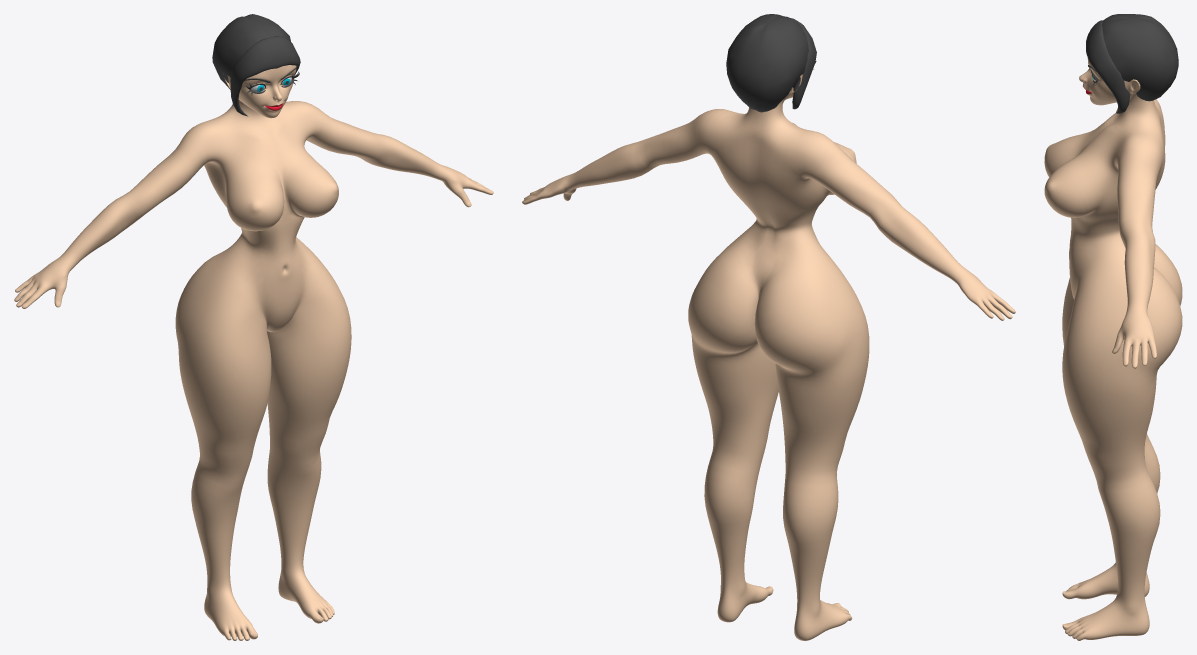
The model's file is HARLIE.glb.
3 views of the same model, side by side, from view 1: azimuth 30°, elevation 25°; view 2: azimuth 150°, elevation 25°; view 3: azimuth 270°, elevation 25° (orthographic). The views are drawn at different scales.
Parts seen in each view (by area): view 1: 40_Survival Specialist Hair_0.14_0_0.002; view 2: 40_Survival Specialist Hair_0.14_0_0.002; view 3: 40_Survival Specialist Hair_0.14_0_0.002.
Boxes of the visible parts, <box> form: 40_Survival Specialist Hair_0.14_0_0.002: <box>14,14,493,640</box>; 40_Survival Specialist Hair_0.14_0_0.002: <box>522,14,1015,640</box>; 40_Survival Specialist Hair_0.14_0_0.002: <box>1044,14,1182,640</box>.
Bounding box in the file's own units: 2.67 × 3.17 × 0.663.
